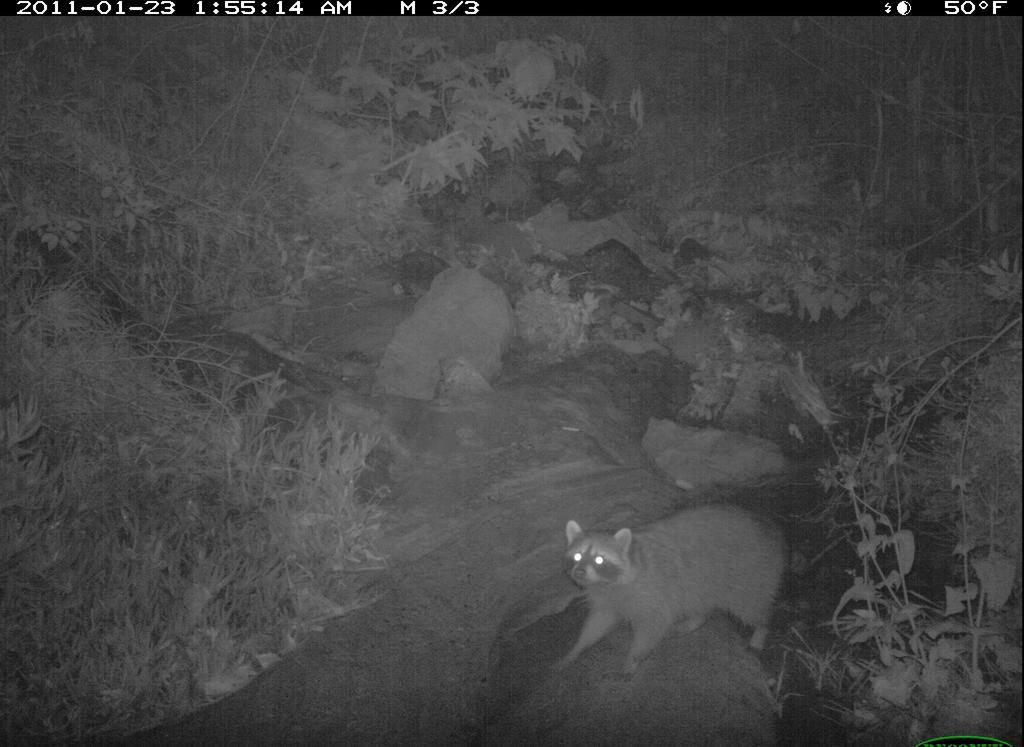raccoon: (547, 500, 808, 682)
